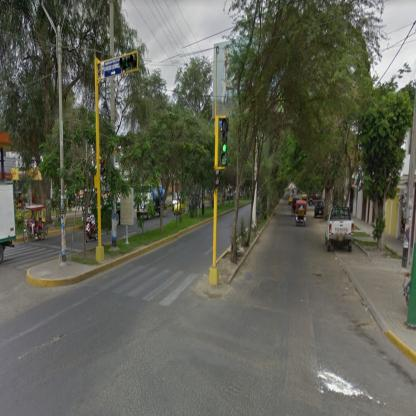Obstaculo: (318, 371, 375, 401), (19, 333, 67, 361), (343, 296, 364, 303), (359, 325, 380, 329)
Vehiculo: (326, 207, 354, 253), (24, 205, 50, 244), (296, 200, 308, 228)
